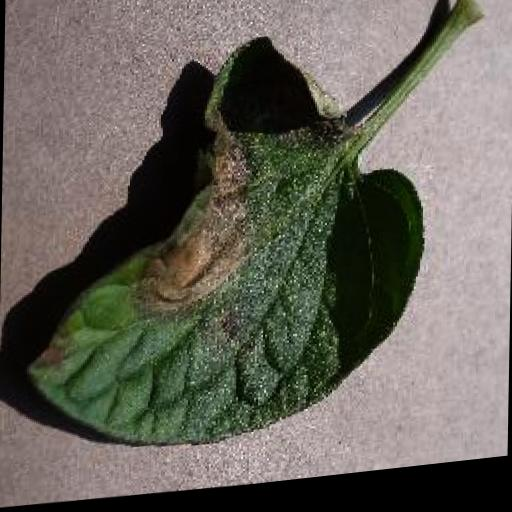Late Blight: (20, 20, 428, 469)
